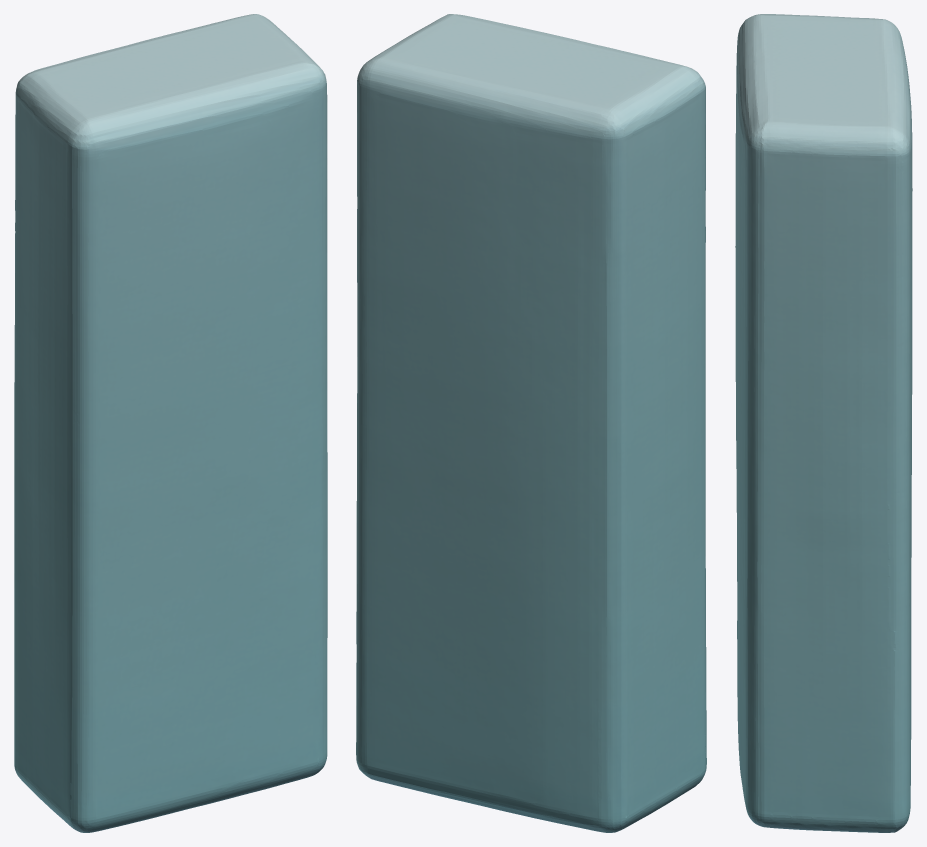
The model's file is obj2_sam3d.glb.
3 views of the same model, side by side, from view 1: azimuth 30°, elevation 25°; view 2: azimuth 150°, elevation 25°; view 3: azimuth 270°, elevation 25° (orthographic). The views are drawn at different scales.
Parts seen in each view (by area): view 1: world; view 2: world; view 3: world.
Boxes of the visible parts, x1,y1,x2,y2 form: world: (14,14,327,832); world: (356,14,706,832); world: (735,14,912,832).
Bounding box in the file's own units: 0.3999 × 1 × 0.2273.
